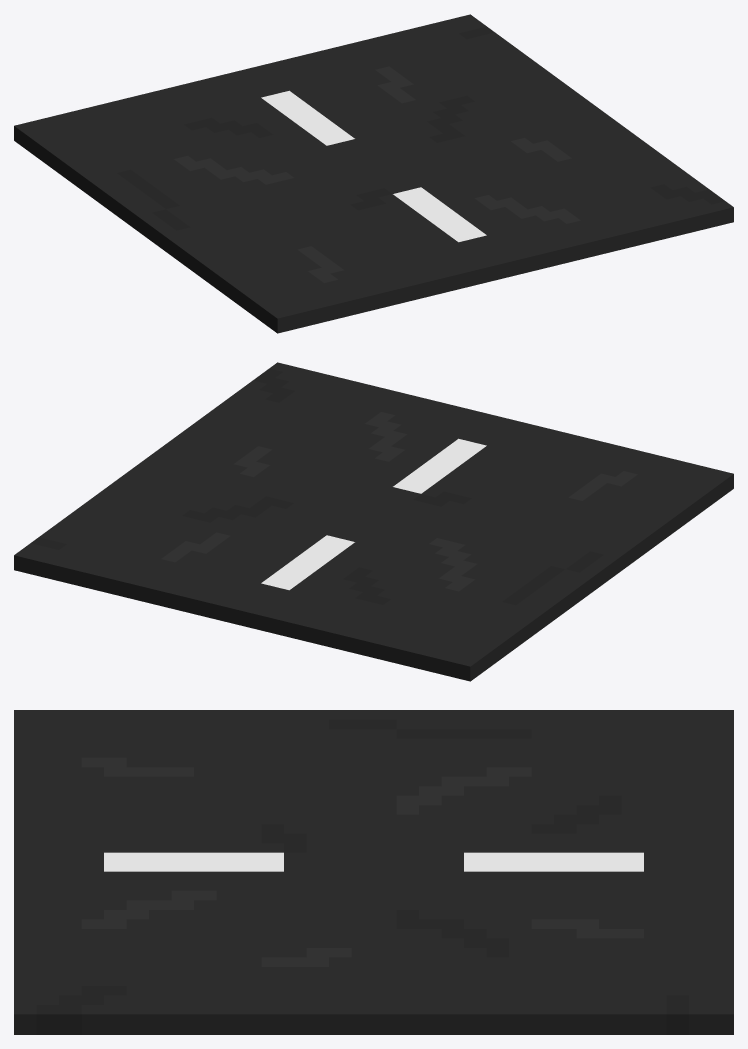
Rendered from street.gltf.
The picture shows the model from 3 angles, top to bottom: view 1: azimuth 30°, elevation 25°; view 2: azimuth 150°, elevation 25°; view 3: azimuth 270°, elevation 25°; orthographic projection. The views are drawn at different scales.
Visible parts, largest first — view 1: Layer.1; view 2: Layer.1; view 3: Layer.1.
Part boxes in pixels (x1,y1,x2,y2): Layer.1: (14,14,733,333); Layer.1: (14,362,733,681); Layer.1: (14,710,733,1034).
Size of the model in its own units: 32 by 1 by 32.
1 material, 1 textured.
